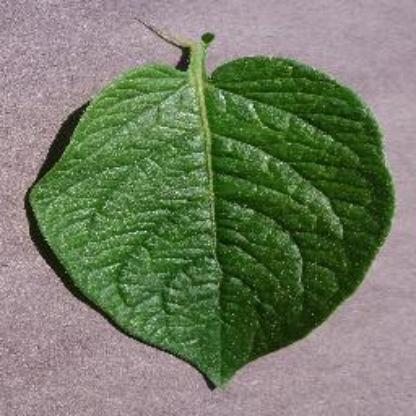Healthy-plant: (20, 20, 402, 394)
